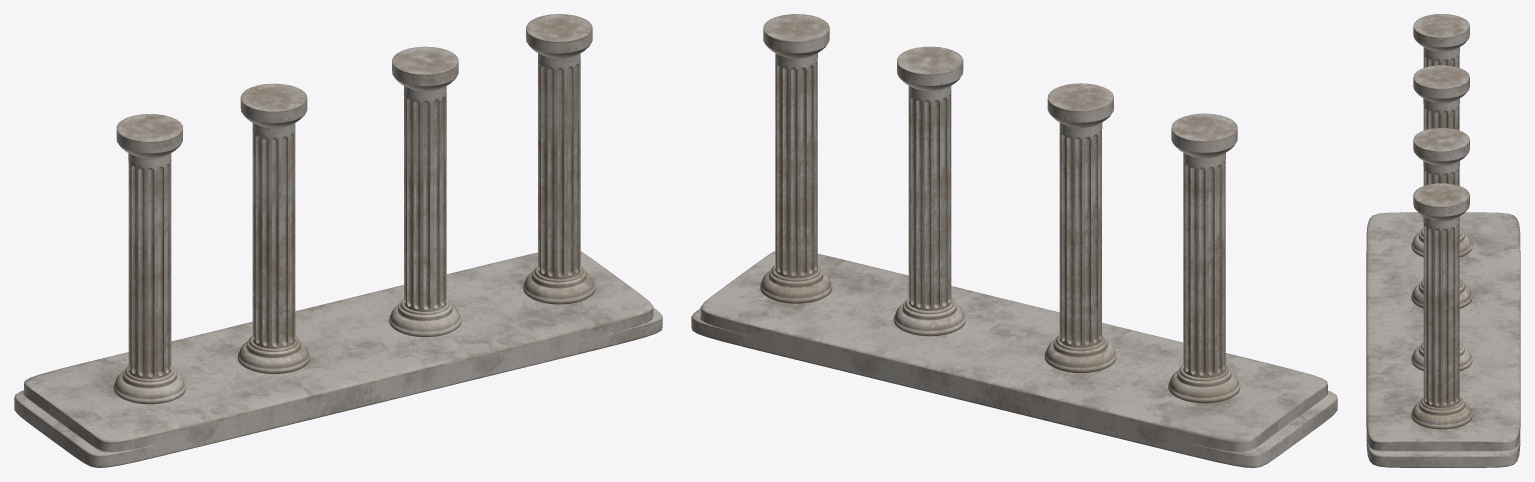
Rendered from colonne.gltf.
The picture shows the model from 3 angles, left to right: view 1: azimuth 30°, elevation 25°; view 2: azimuth 150°, elevation 25°; view 3: azimuth 270°, elevation 25°; orthographic projection. The views are drawn at different scales.
Visible parts, largest first — view 1: columns, base; view 2: columns, base; view 3: base, columns.
Part boxes in pixels (bbox=[...]): columns: bbox=[113, 14, 595, 404]; base: bbox=[14, 251, 662, 467]; columns: bbox=[760, 14, 1240, 403]; base: bbox=[691, 251, 1337, 467]; base: bbox=[1366, 212, 1520, 467]; columns: bbox=[1411, 14, 1472, 429].
Size of the model in its own units: 2277 by 1097 by 625.
Materials: 2 (2 with a texture image).
